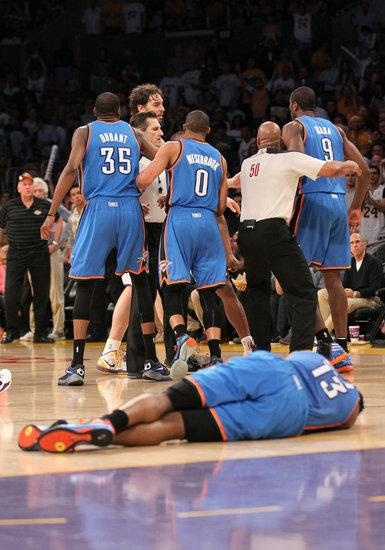falling: (17, 331, 370, 451)
